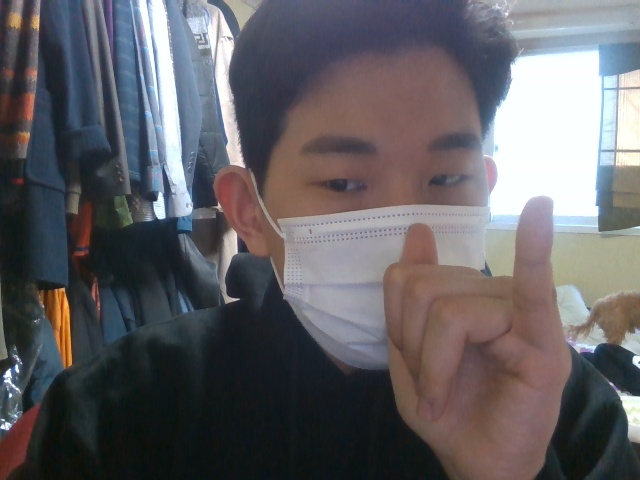HAVE: (383, 194, 572, 480)
